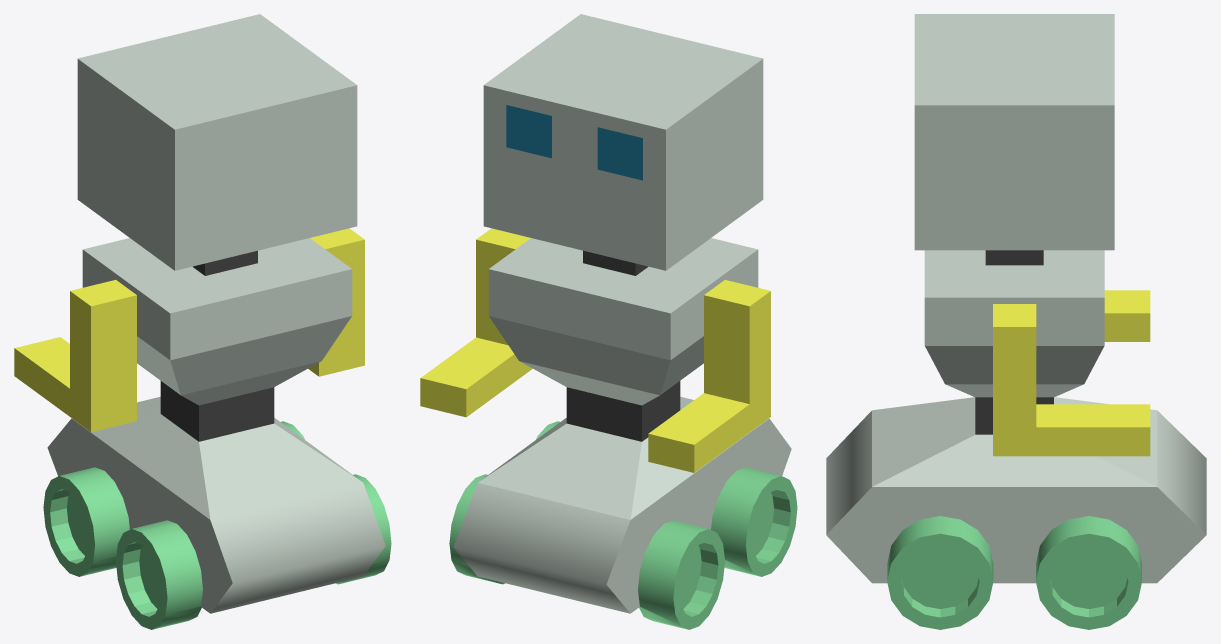
Rendered from type_β.FBX.
3 views of the same model, side by side, from view 1: azimuth 30°, elevation 25°; view 2: azimuth 150°, elevation 25°; view 3: azimuth 270°, elevation 25° (orthographic). The views are drawn at different scales.
Parts seen in each view (by area): view 1: type_αBody; view 2: type_αBody; view 3: type_αBody.
Boxes of the visible parts, <box> form: type_αBody: <box>14,14,391,629</box>; type_αBody: <box>420,14,797,629</box>; type_αBody: <box>826,14,1206,629</box>.
Bounding box in the file's own units: 12.03 × 21.02 × 14.11.
